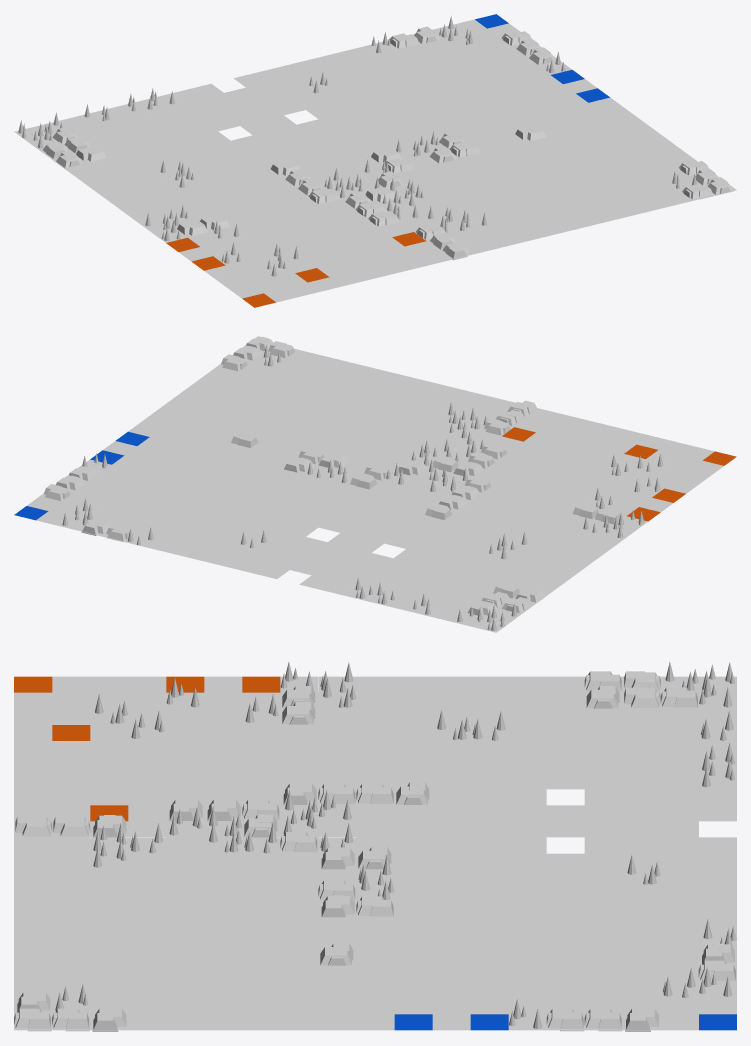
File: LevelEditorTileMesh.fbx
3 views of the same model, one above another, from view 1: azimuth 30°, elevation 25°; view 2: azimuth 150°, elevation 25°; view 3: azimuth 270°, elevation 25° (orthographic). The views are drawn at different scales.
Parts seen in each view (by area): view 1: LevelEditorTileMesh; view 2: LevelEditorTileMesh; view 3: LevelEditorTileMesh.
Part boxes in pixels (x1,y1,x2,y2): LevelEditorTileMesh: [14, 14, 736, 307]; LevelEditorTileMesh: [14, 336, 736, 632]; LevelEditorTileMesh: [14, 662, 736, 1031].
Bounding box in the file's own units: 2200 × 59.55 × 1900.
